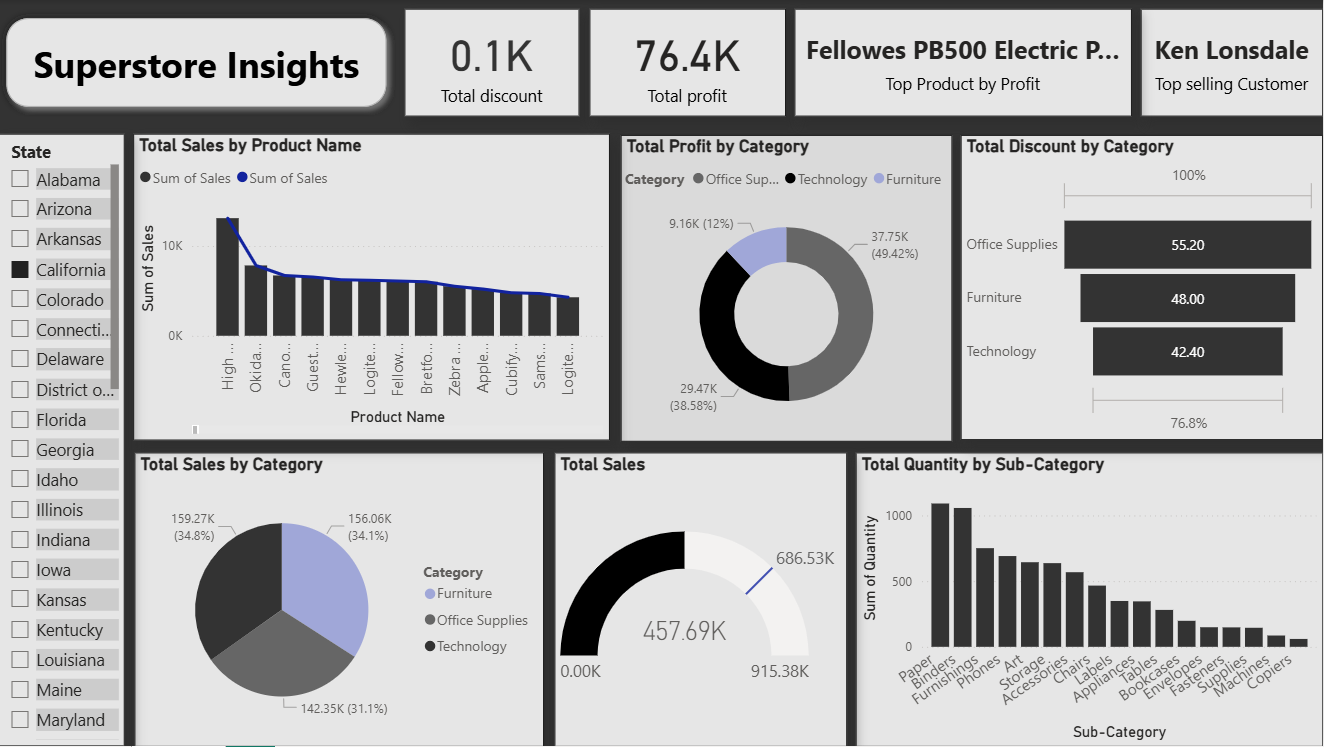

The page's visual inventory and layout, read from the dashboard file:
{"tool":"powerbi","page":{"name":"Page 1","canvas":[1280,720],"ordinal":0},"visuals":[{"type":"donutChart","title":"Total Profit by Category","fields":{"Category":["Orders.Category"],"Y":["Sum(Orders.Profit)"]},"box":[601.6,130.8,320.4,295.9],"z":0},{"type":"lineStackedColumnComboChart","title":"Total Quantity by Sub-Category","fields":{"Y":["Sum(Orders.Quantity)"],"Category":["Orders.Sub-Category"]},"box":[828.8,436.2,451.2,283.8],"z":1000},{"type":"pieChart","title":"Total Sales by Category","fields":{"Y":["Sum(Orders.Sales)"],"Series":["Orders.Category"]},"box":[132.5,436.2,395,283.8],"z":2000},{"type":"gauge","title":"Total Sales","fields":{"Y":["Sum(Orders.Sales)"],"TargetValue":["Orders.target value"]},"box":[537.5,436.2,282.5,283.8],"z":3000},{"type":"funnel","title":"Total Discount by Category","fields":{"Category":["Orders.Category"],"Y":["Sum(Orders.Discount)"]},"box":[930.6,130.8,349.7,294.7],"z":4000},{"type":"lineStackedColumnComboChart","title":"Total Sales by Product Name","fields":{"Y":["Sum(Orders.Sales)"],"Category":["Orders.Product Name"],"Y2":["Sum(Orders.Sales)"]},"box":[132.1,129.6,459.8,295.9],"z":5000},{"type":"card","fields":{"Values":["Orders.total discount"]},"box":[393.3,8.4,168.9,103.8],"z":6000},{"type":"card","fields":{"Values":["Orders.Total profit"]},"box":[571.9,8.4,189.4,103.8],"z":7000},{"type":"card","fields":{"Values":["Orders.Customer Name by Most Sales"]},"box":[1103.9,8.4,176.1,103.8],"z":8000},{"type":"card","fields":{"Values":["Orders.Top Product by Profit"]},"box":[769.7,8.4,325.7,103.8],"z":9000},{"type":"slicer","fields":{"Values":["Orders.State"]},"box":[0,129.1,123.1,591.2],"z":10000},{"type":"shape","box":[0,8.4,384.9,103.8],"z":11000}]}

Visuals, with their boxes in screenshot pixels (x1, y1, x2, y2), scaled from the page's 1280x720 canvas onto the 1324x747 screenshot:
"Total Profit by Category" donutChart: {"left": 622, "top": 136, "right": 954, "bottom": 443}
"Total Quantity by Sub-Category" lineStackedColumnComboChart: {"left": 857, "top": 453, "right": 1323, "bottom": 746}
"Total Sales by Category" pieChart: {"left": 137, "top": 453, "right": 546, "bottom": 746}
"Total Sales" gauge: {"left": 556, "top": 453, "right": 848, "bottom": 746}
"Total Discount by Category" funnel: {"left": 963, "top": 136, "right": 1323, "bottom": 441}
"Total Sales by Product Name" lineStackedColumnComboChart: {"left": 137, "top": 134, "right": 612, "bottom": 441}
card - Orders.total discount: {"left": 407, "top": 9, "right": 582, "bottom": 116}
card - Orders.Total profit: {"left": 592, "top": 9, "right": 787, "bottom": 116}
card - Orders.Customer Name by Most Sales: {"left": 1142, "top": 9, "right": 1323, "bottom": 116}
card - Orders.Top Product by Profit: {"left": 796, "top": 9, "right": 1133, "bottom": 116}
slicer - Orders.State: {"left": 0, "top": 134, "right": 127, "bottom": 746}
shape: {"left": 0, "top": 9, "right": 398, "bottom": 116}
